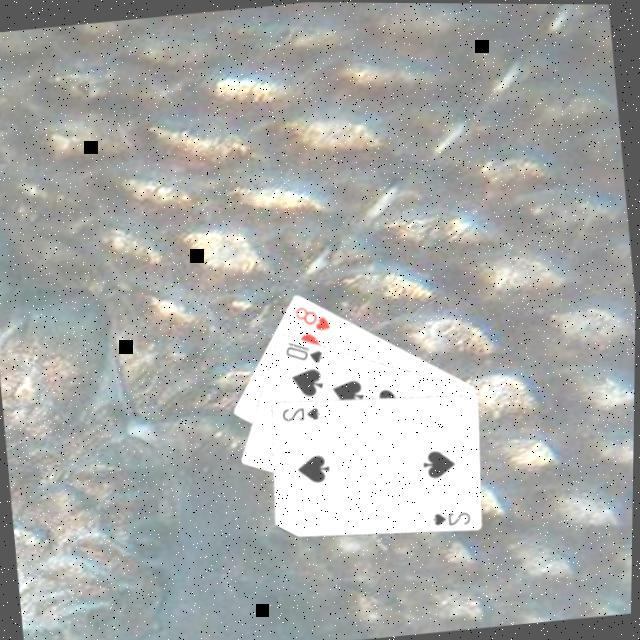10S: (282, 336, 329, 370)
2S: (431, 508, 476, 532), (280, 404, 326, 426)
8H: (292, 302, 336, 338)
